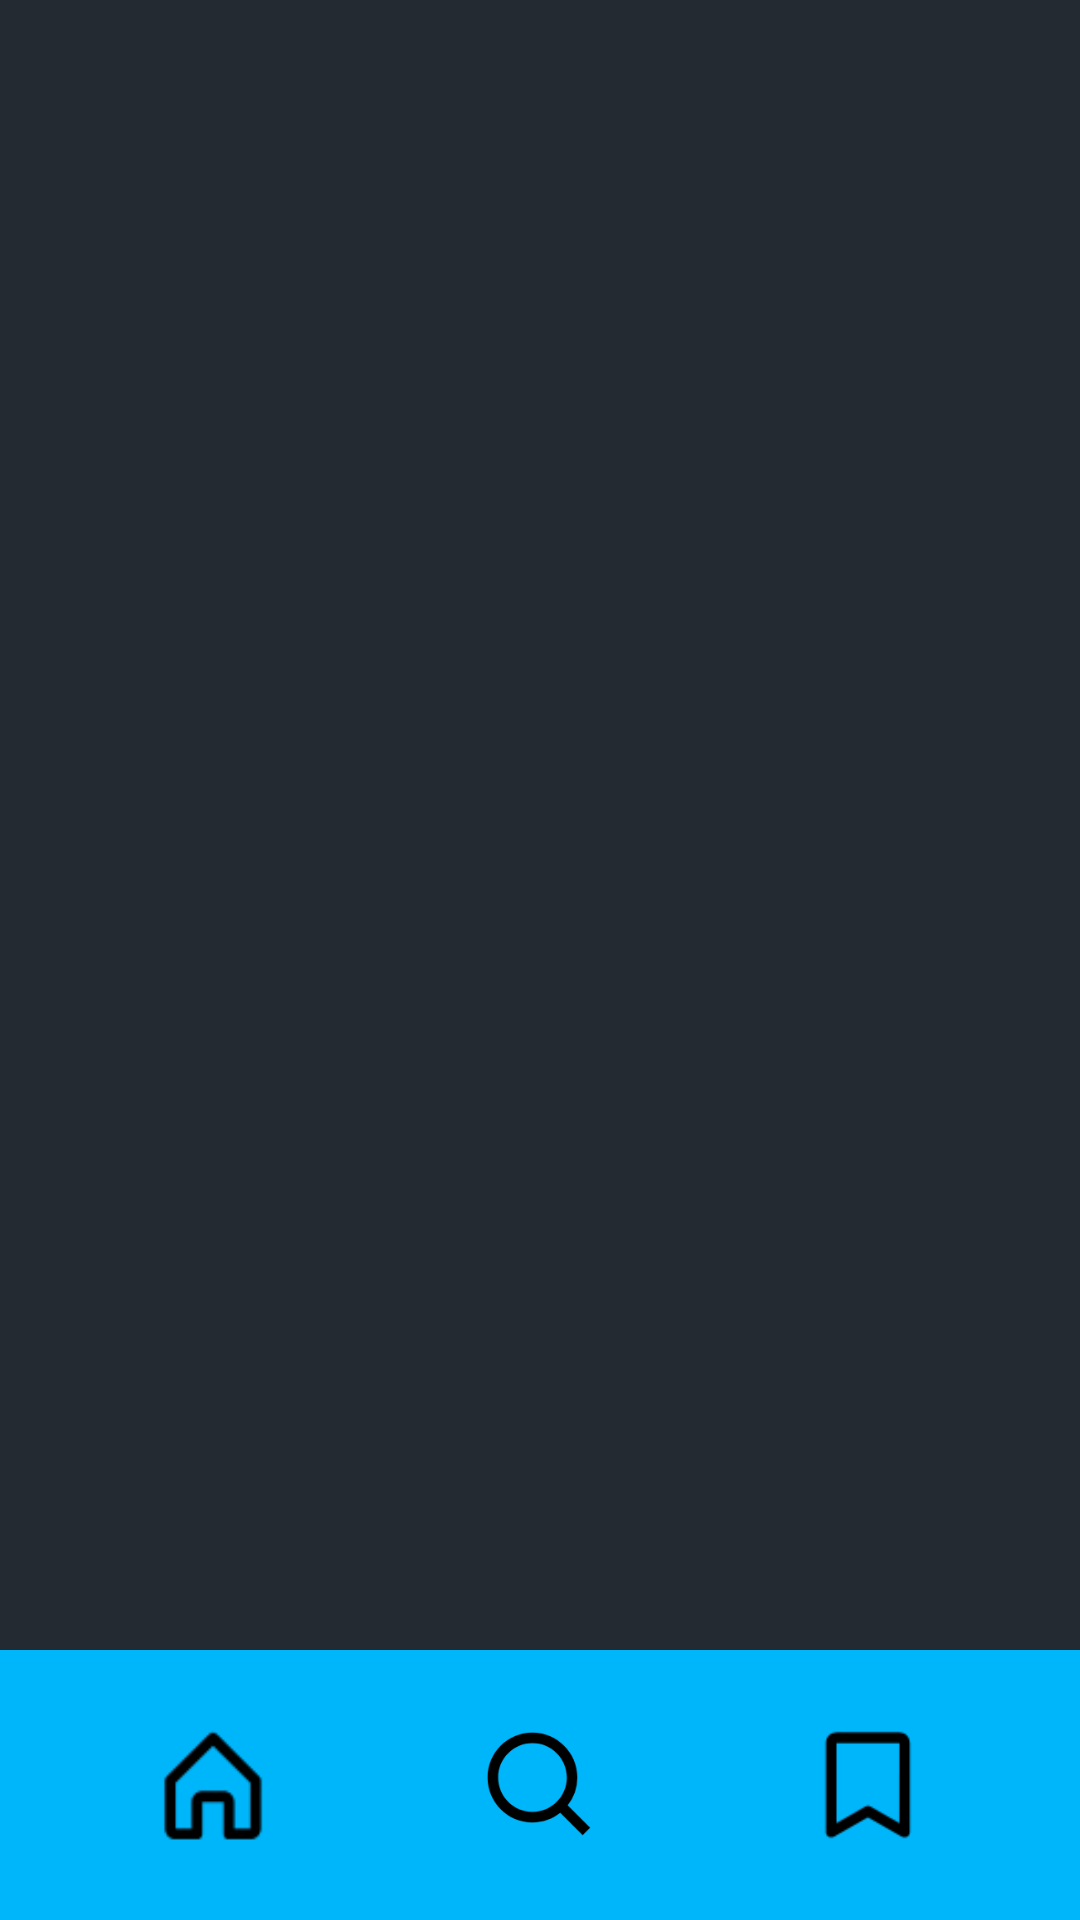

Screen size 1080px×1920px. Icon name, then its box in pixels as (x1, y1, x2, y2):
Home: (164, 1732, 263, 1840)
Search: (487, 1732, 590, 1836)
Watch List: (825, 1731, 911, 1839)
